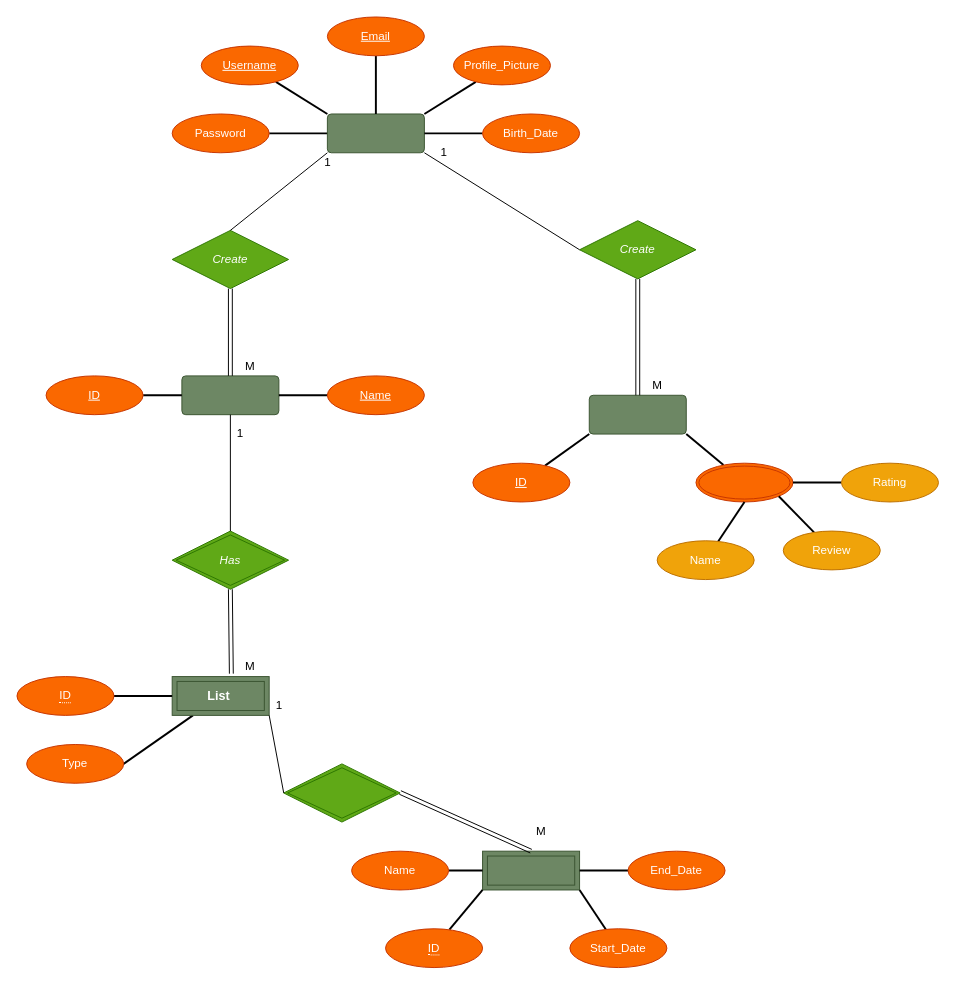
The diagram is 955 pixels wide and 985 high, and some of its shapes have lost their labels. The shapes that lost their labels are listed below. From the top down, each one's centre as x and y in pixels, then its label:
At (375,133): "User".
At (230,395): "Planner".
At (637,414): "Favorite List".
At (744,482): "Item".
At (341,792): "Contain".
At (531,870): "Task".
